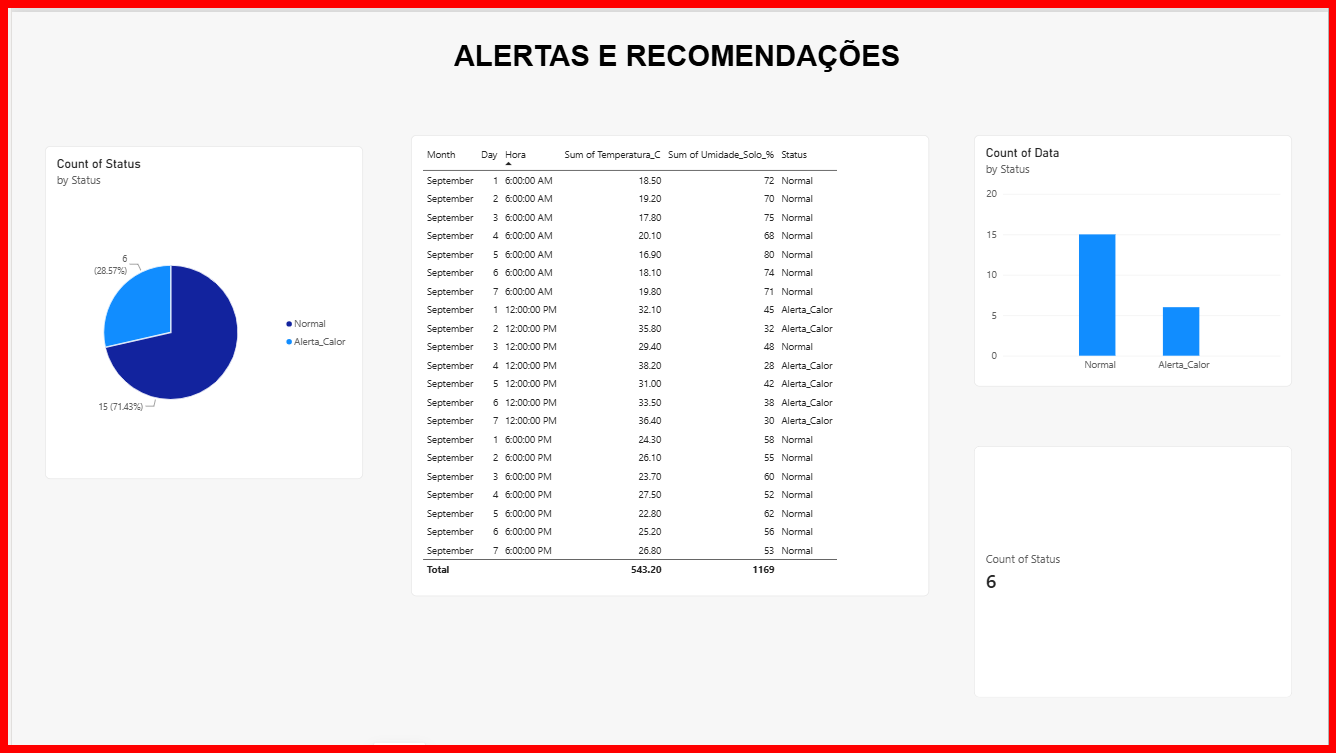

What the dashboard file says about the page in this screenshot:
{"tool":"powerbi","page":{"name":"alertas","canvas":[1920,1080],"ordinal":2},"visuals":[{"type":"textbox","box":[644.9,39.4,895.8,280.1],"z":0},{"type":"pieChart","fields":{"Category":["dados_agrosmart.Status"],"Y":["CountNonNull(dados_agrosmart.Status)"]},"box":[48.1,195.5,464,485.8],"z":1000},{"type":"tableEx","fields":{"Values":["dados_agrosmart.Data.Variation.Date Hierarchy.Month","dados_agrosmart.Data.Variation.Date Hierarchy.Day","dados_agrosmart.Hora","Sum(dados_agrosmart.Temperatura_C)","Sum(dados_agrosmart.Umidade_Solo_%)","dados_agrosmart.Status"]},"box":[582.1,179.5,755.7,672.6],"z":2000},{"type":"clusteredColumnChart","fields":{"Category":["dados_agrosmart.Status"],"Y":["CountNonNull(dados_agrosmart.Data)"]},"box":[1403.5,179.5,464,367],"z":3000},{"type":"cardVisual","fields":{"Data":["CountNonNull(dados_agrosmart.Status)"]},"box":[1403.5,633.2,464,367],"z":4000}]}

Visuals, with their boxes in screenshot pixels (x1, y1, x2, y2), scaled from the page's 1920x1080 canvas onto the 1336x753 screenshot:
textbox: 449,27,1072,223
pieChart - dados_agrosmart.Status x CountNonNull(dados_agrosmart.Status): 33,136,356,475
tableEx - dados_agrosmart.Data.Variation.Date Hierarchy.Month x dados_agrosmart.Data.Variation.Date Hierarchy.Day: 405,125,931,594
clusteredColumnChart - dados_agrosmart.Status x CountNonNull(dados_agrosmart.Data): 977,125,1299,381
cardVisual - CountNonNull(dados_agrosmart.Status): 977,441,1299,697
